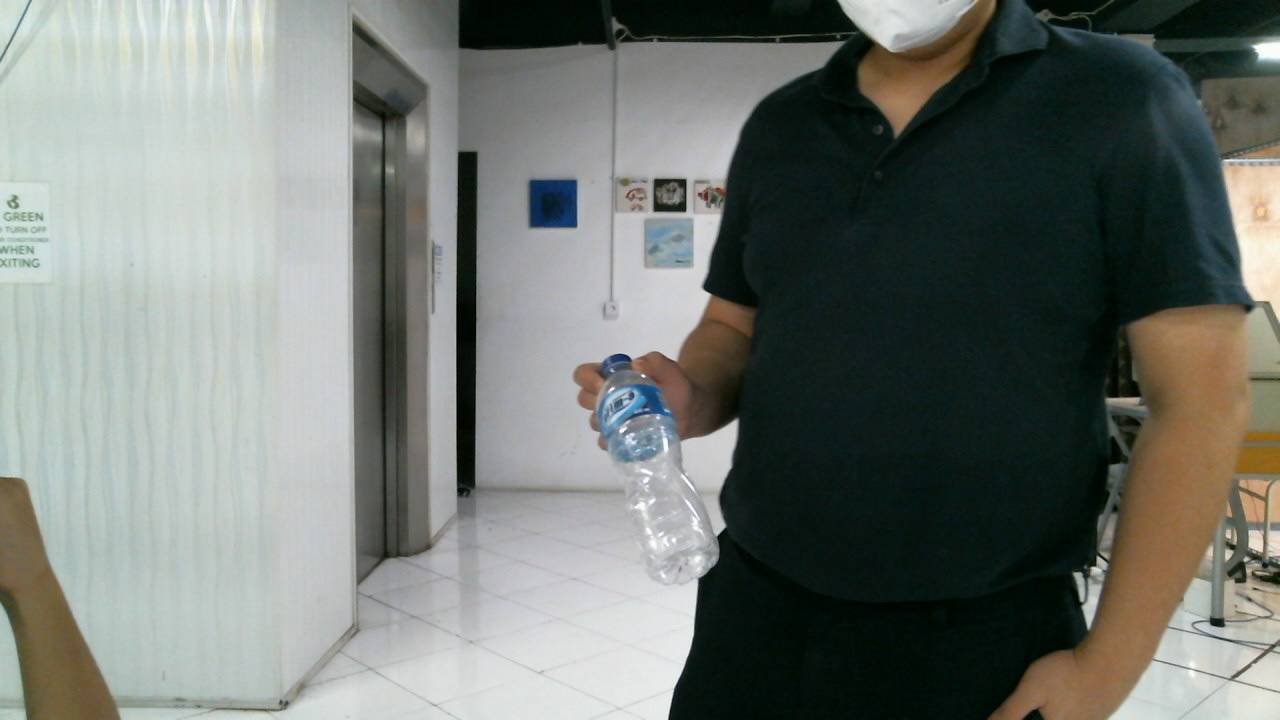Bottle: (591, 351, 724, 584)
